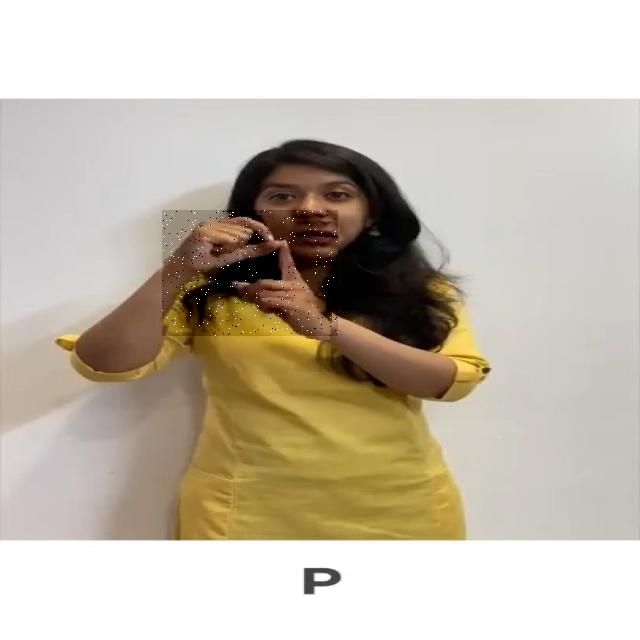P: (162, 210, 338, 336)
